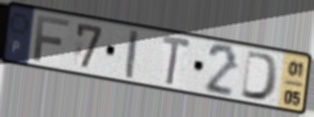2: (204, 41, 243, 99)
7: (75, 22, 104, 70)
D: (238, 49, 281, 104)
F: (32, 14, 72, 64)
I: (124, 28, 140, 82)
T: (160, 32, 193, 88)
